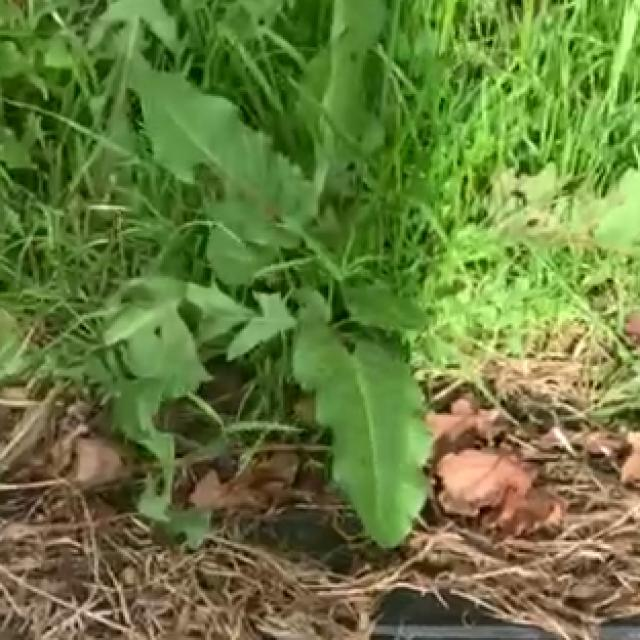organic waste: (106, 0, 580, 575)
